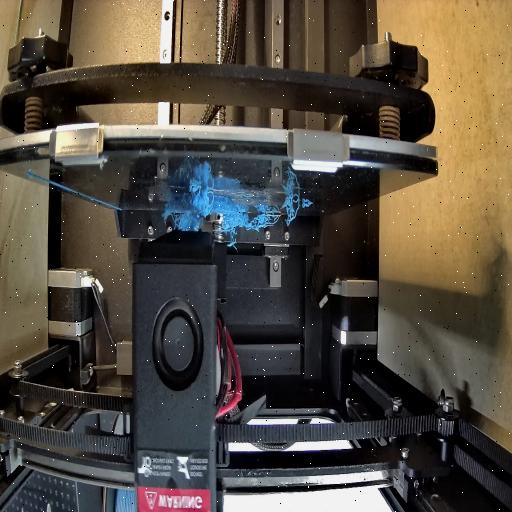spaghetti: (172, 180, 210, 232), (220, 210, 278, 236), (283, 194, 303, 228)
